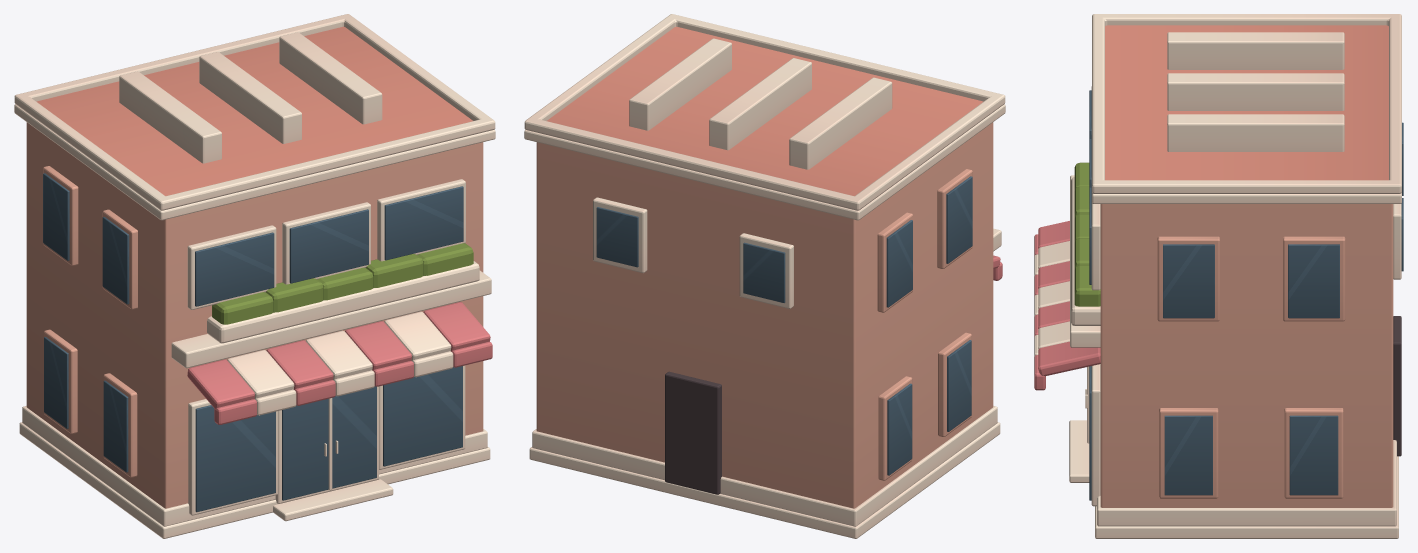
Rendered from 04C-market-blender.glb.
3 renders of one model, left to right at view 1: azimuth 30°, elevation 25°; view 2: azimuth 150°, elevation 25°; view 3: azimuth 270°, elevation 25°, orthographic. The views are drawn at different scales.
Parts seen in each view (by area): view 1: 04C Peach Modern; view 2: 04C Peach Modern; view 3: 04C Peach Modern.
Boxes of the visible parts, x1,y1,x2,y2 form: 04C Peach Modern: [14, 14, 495, 538]; 04C Peach Modern: [524, 14, 1005, 538]; 04C Peach Modern: [1034, 14, 1403, 538].
Bounding box in the file's own units: 5.95 × 6.09 × 5.4.
Materials: 7 (7 with a texture image).
